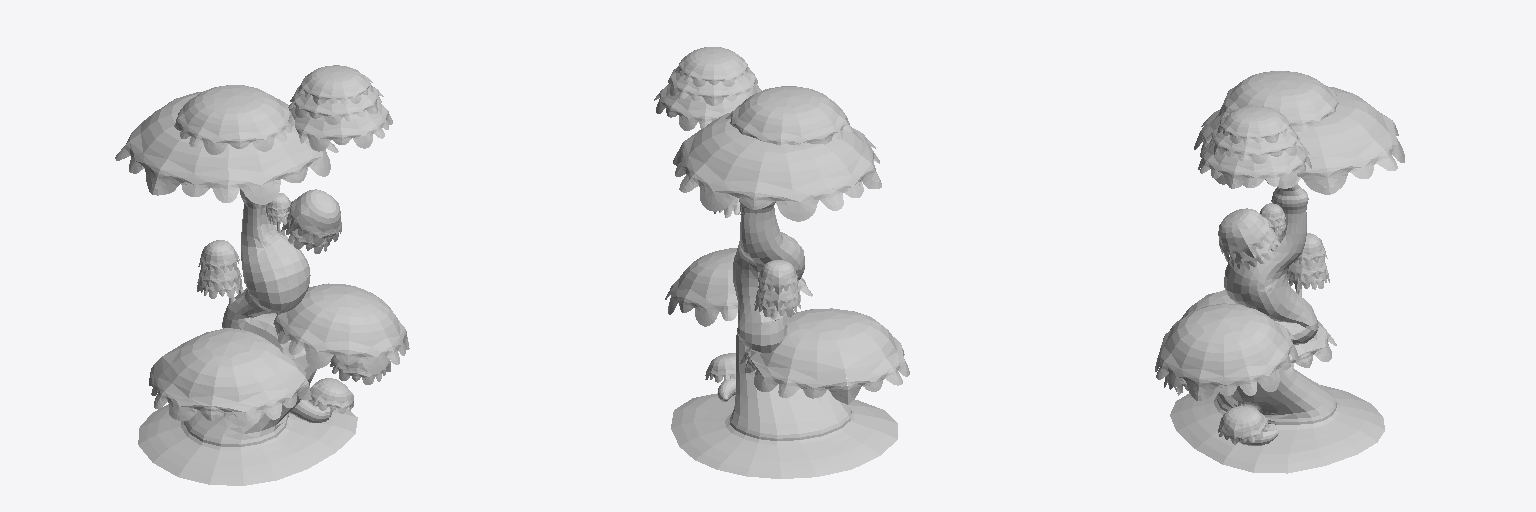
The model's file is trees_rescaled.obj.
3 views of the same model, side by side, from view 1: azimuth 30°, elevation 25°; view 2: azimuth 150°, elevation 25°; view 3: azimuth 270°, elevation 25° (orthographic).
Visible parts, largest first — view 1: trees; view 2: trees; view 3: trees.
Part boxes in pixels (left/top/right/bottom): trees: left=115, top=65, right=409, bottom=485; trees: left=654, top=47, right=909, bottom=478; trees: left=1155, top=71, right=1404, bottom=473.
Bounding box in the file's own units: 18.35 × 26.39 × 16.93.